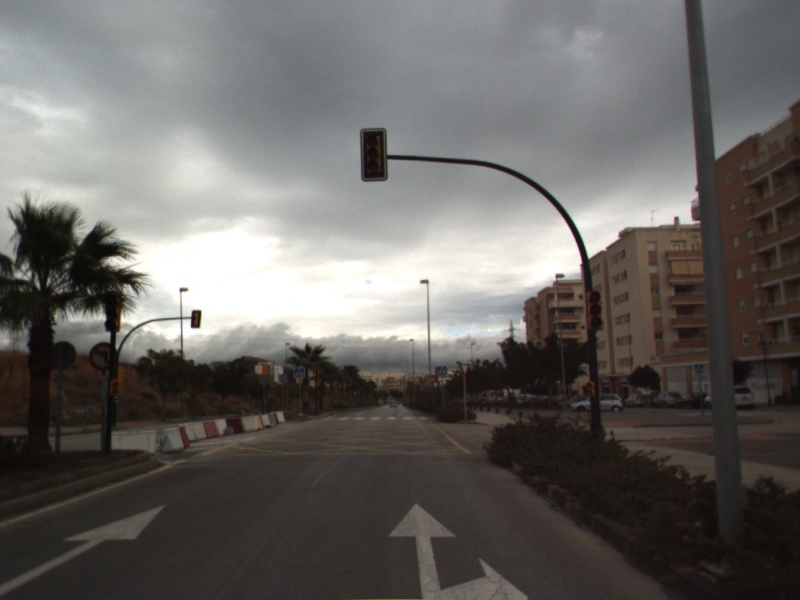STRAIGHT: (1, 502, 169, 597)
STRAIGHT_RIGHT: (387, 501, 531, 600)
